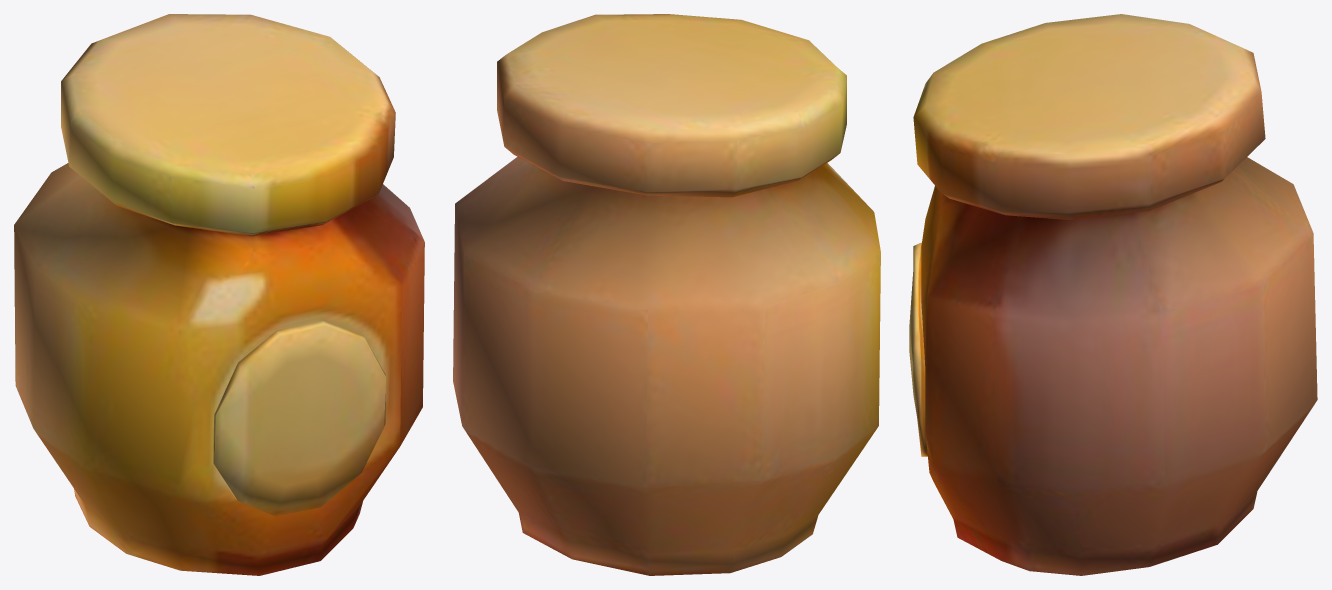
File: honey.glb
The picture shows the model from 3 angles, left to right: view 1: azimuth 30°, elevation 25°; view 2: azimuth 150°, elevation 25°; view 3: azimuth 270°, elevation 25°; orthographic projection. The views are drawn at different scales.
Visible parts, largest first — view 1: Honey; view 2: Honey; view 3: Honey.
Part boxes in pixels (<box>): Honey: <box>14,14,424,575</box>; Honey: <box>453,14,880,575</box>; Honey: <box>909,14,1317,575</box>.
Size of the model in its own units: 1.44 by 1.75 by 1.43.
Materials: 1 (1 with a texture image).
